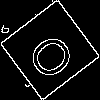O: (25, 24, 85, 84)
